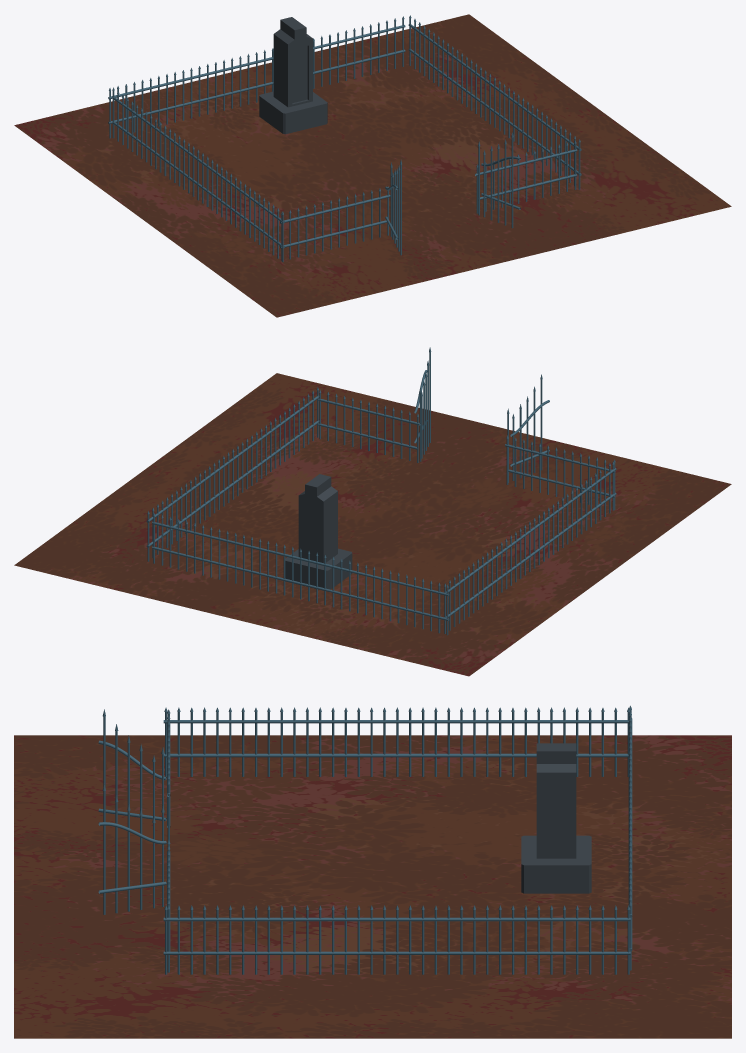
File: GraveSetting.fbx
3 renders of one model, top to bottom at view 1: azimuth 30°, elevation 25°; view 2: azimuth 150°, elevation 25°; view 3: azimuth 270°, elevation 25°, orthographic. The views are drawn at different scales.
Parts seen in each view (by area): view 1: Plane, Cylinder.001, PasswordGrave, Cylinder.006, left gate; view 2: Plane, Cylinder.001, PasswordGrave, Cylinder.006, left gate; view 3: Plane, Cylinder.001, PasswordGrave, left gate, Cylinder.006.
Boxes of the visible parts, x1=… form: Plane: x1=14, y1=14, x2=731, y2=317; Cylinder.001: x1=108, y1=15, x2=581, y2=262; PasswordGrave: x1=259, y1=17, x2=327, y2=134; Cylinder.006: x1=280, y1=140, x2=577, y2=261; left gate: x1=385, y1=132, x2=520, y2=255; Plane: x1=14, y1=373, x2=731, y2=676; Cylinder.001: x1=146, y1=387, x2=616, y2=635; PasswordGrave: x1=285, y1=474, x2=352, y2=589; Cylinder.006: x1=318, y1=389, x2=615, y2=510; left gate: x1=414, y1=347, x2=549, y2=482; Plane: x1=14, y1=735, x2=731, y2=1038; Cylinder.001: x1=163, y1=705, x2=632, y2=974; PasswordGrave: x1=521, y1=743, x2=591, y2=893; left gate: x1=98, y1=709, x2=166, y2=914; Cylinder.006: x1=167, y1=709, x2=170, y2=972.
Bounding box in the file's own units: 2045 × 419 × 2045.
